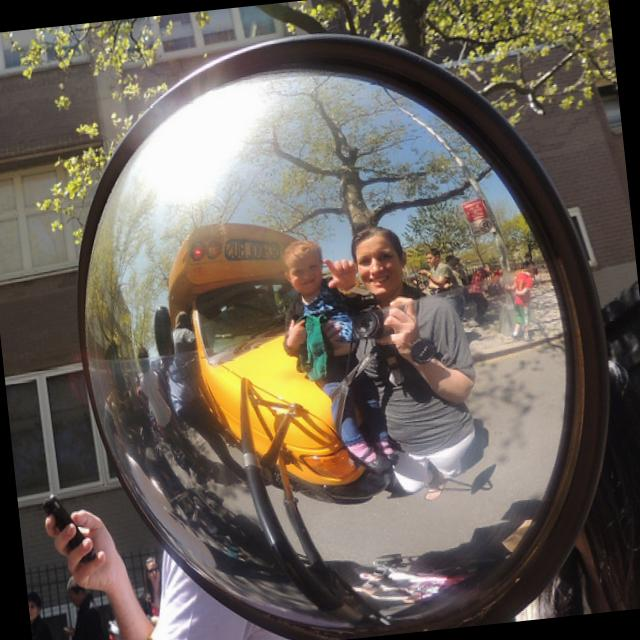Vehicle: (156, 210, 368, 500)
